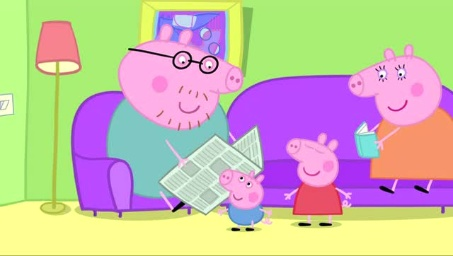Peppa: (283, 133, 354, 227)
